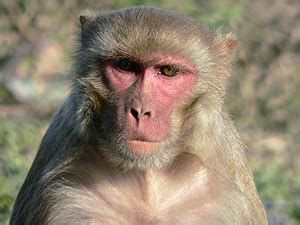monkey: (40, 3, 274, 220)
